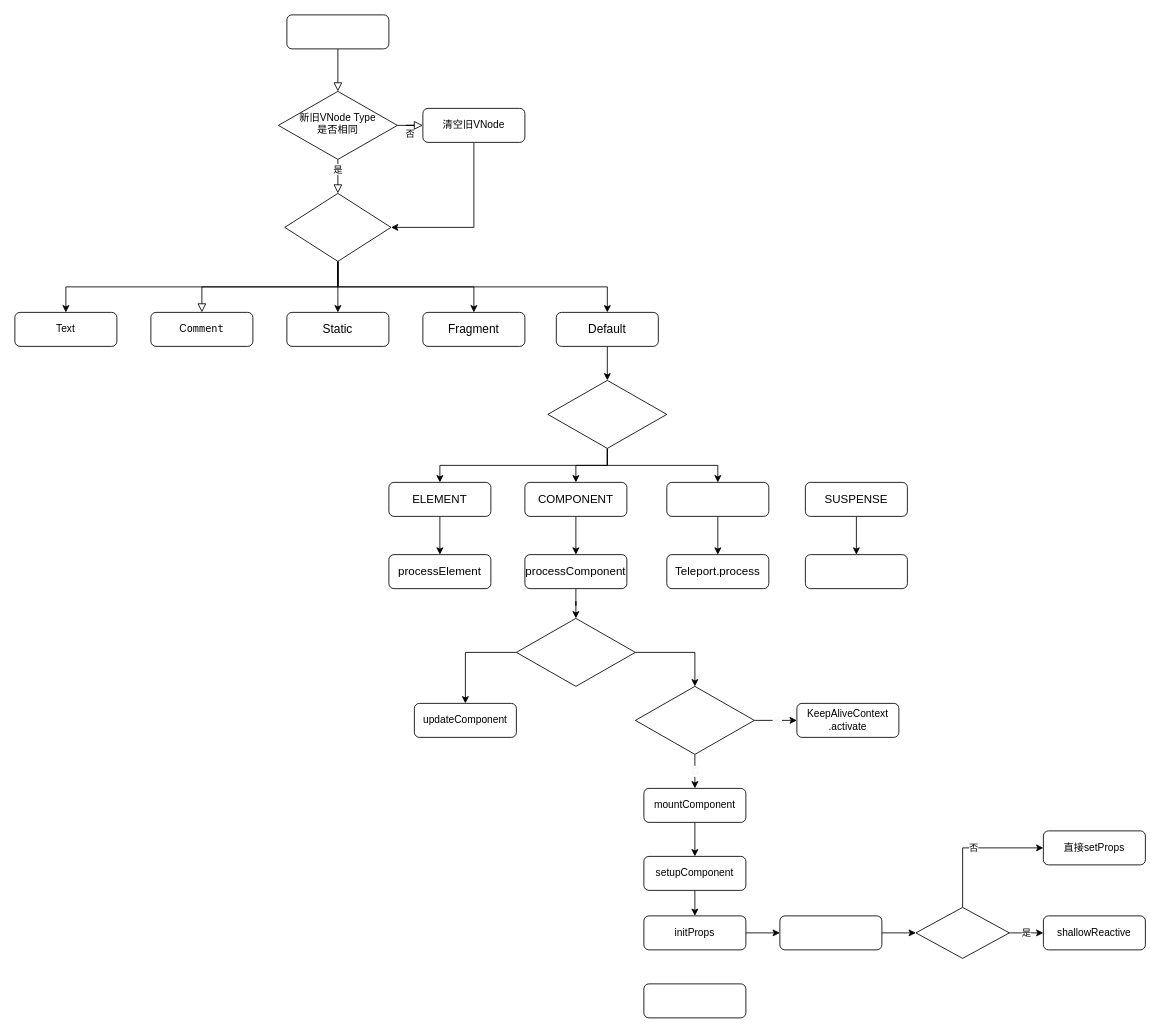
Image size: 1160x1033. Some labels were removed from this diagram. Each missing label, with the centre of its shape:
"initSlots" goes at [694,1000].
"isStateful" goes at [962,932].
"patch" goes at [337,31].
"setFullProps" goes at [830,932].
"shapeFlag" goes at [607,414].
"Suspense . process" goes at [856,571].
"TELEPORT" goes at [717,499].
"VNode Type" goes at [337,227].
"是否KeepAlive" goes at [694,720].
"是否有旧 VNode" goes at [575,652].
